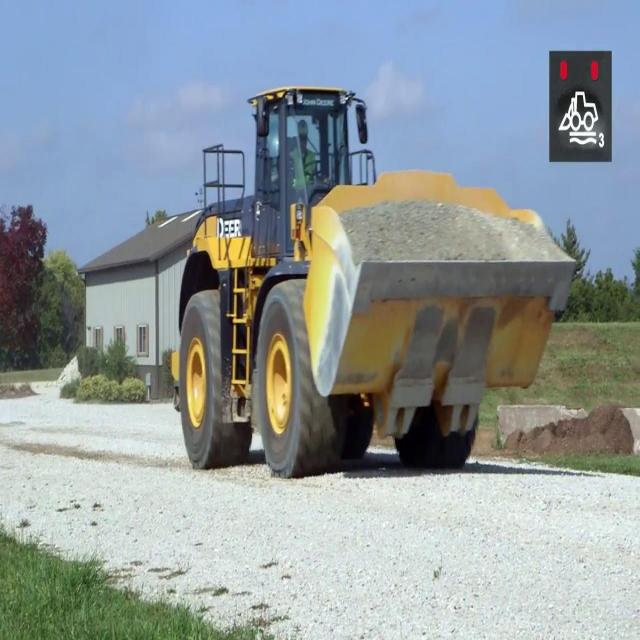Loader: (172, 81, 580, 483)
